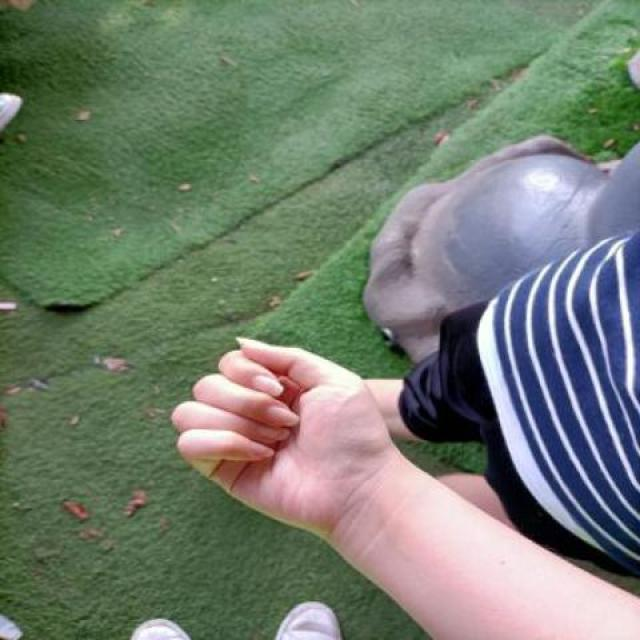fist: (169, 335, 404, 552)
